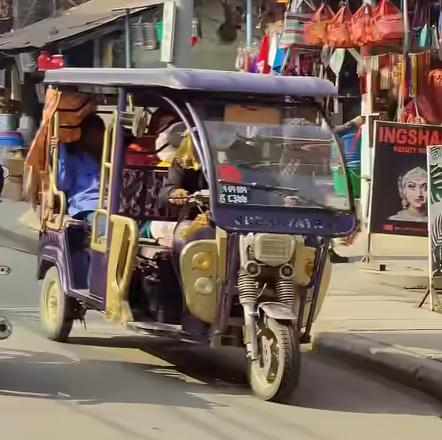e-rickshaw: (21, 53, 362, 408)
